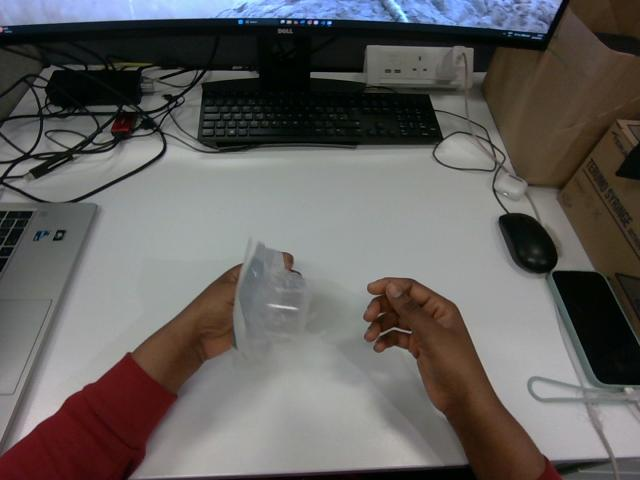gallipot: (233, 240, 309, 359)
